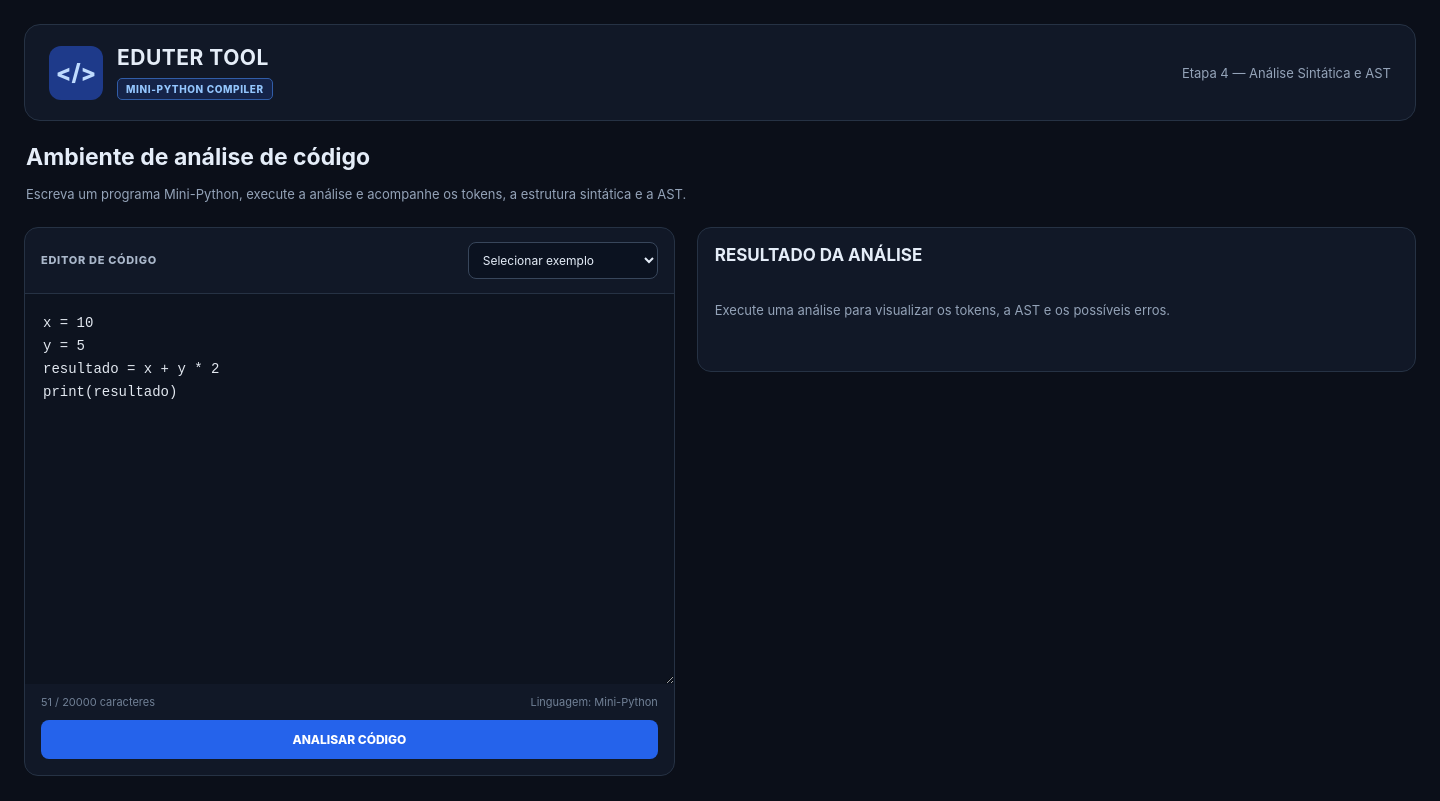
Test: envia o código para o endpoint de análise
The image size is (1440, 801).
Click the button "ANALISAR CÓDIGO" at x=349, y=739, box x1=41 y1=720 x2=658 y2=759
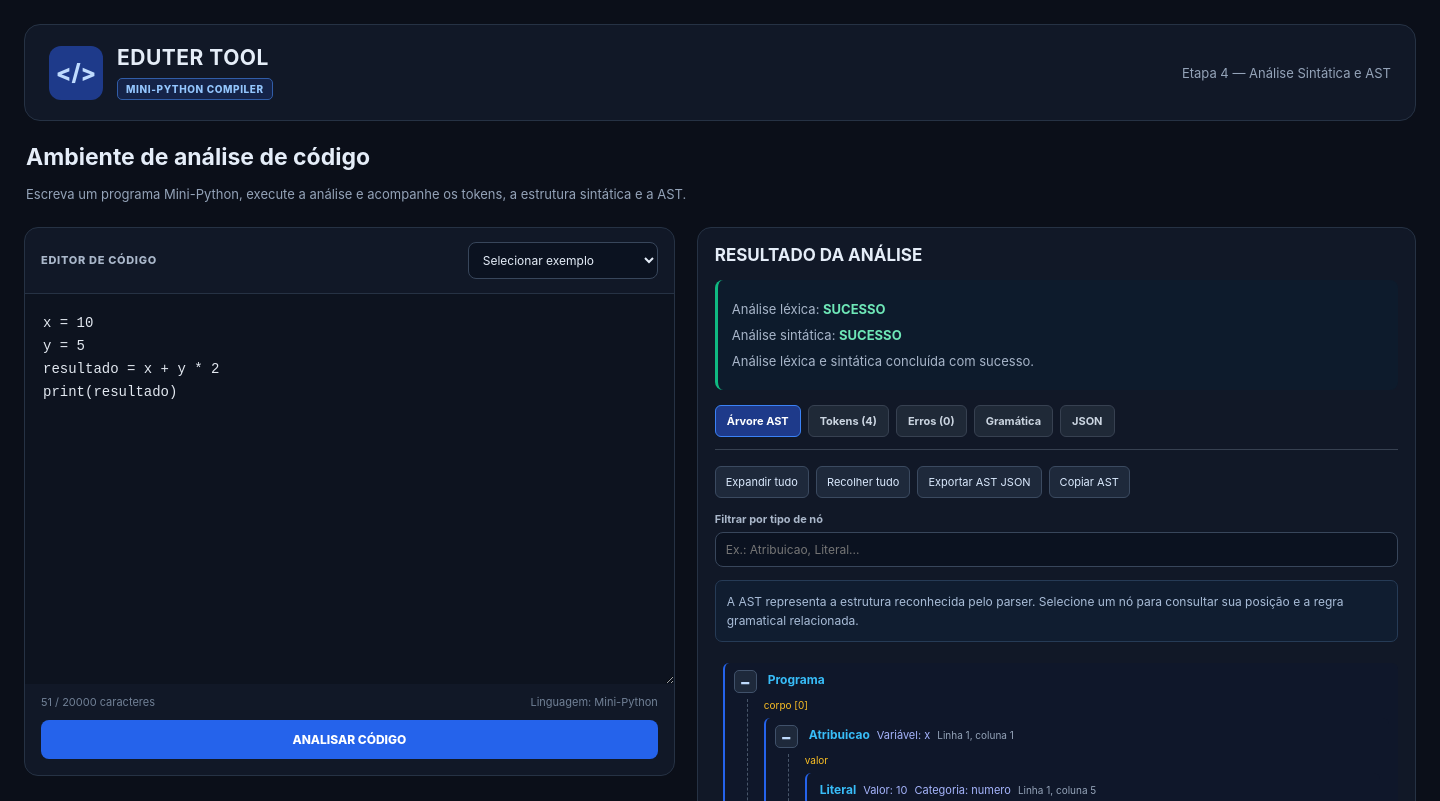
Expected: the text "Atribuicao" is shown, x1=809 y1=728 x2=870 y2=742
